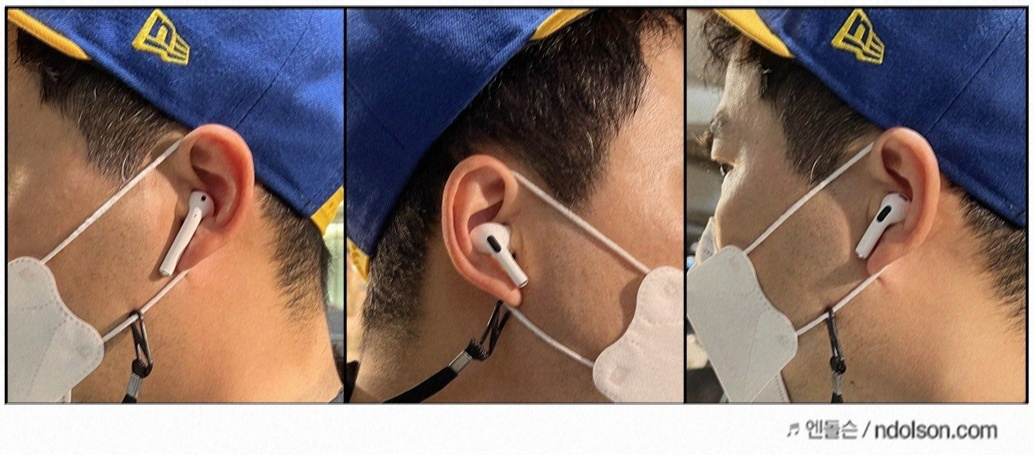earphone: (160, 123, 255, 272), (440, 153, 530, 306), (854, 124, 941, 273)
